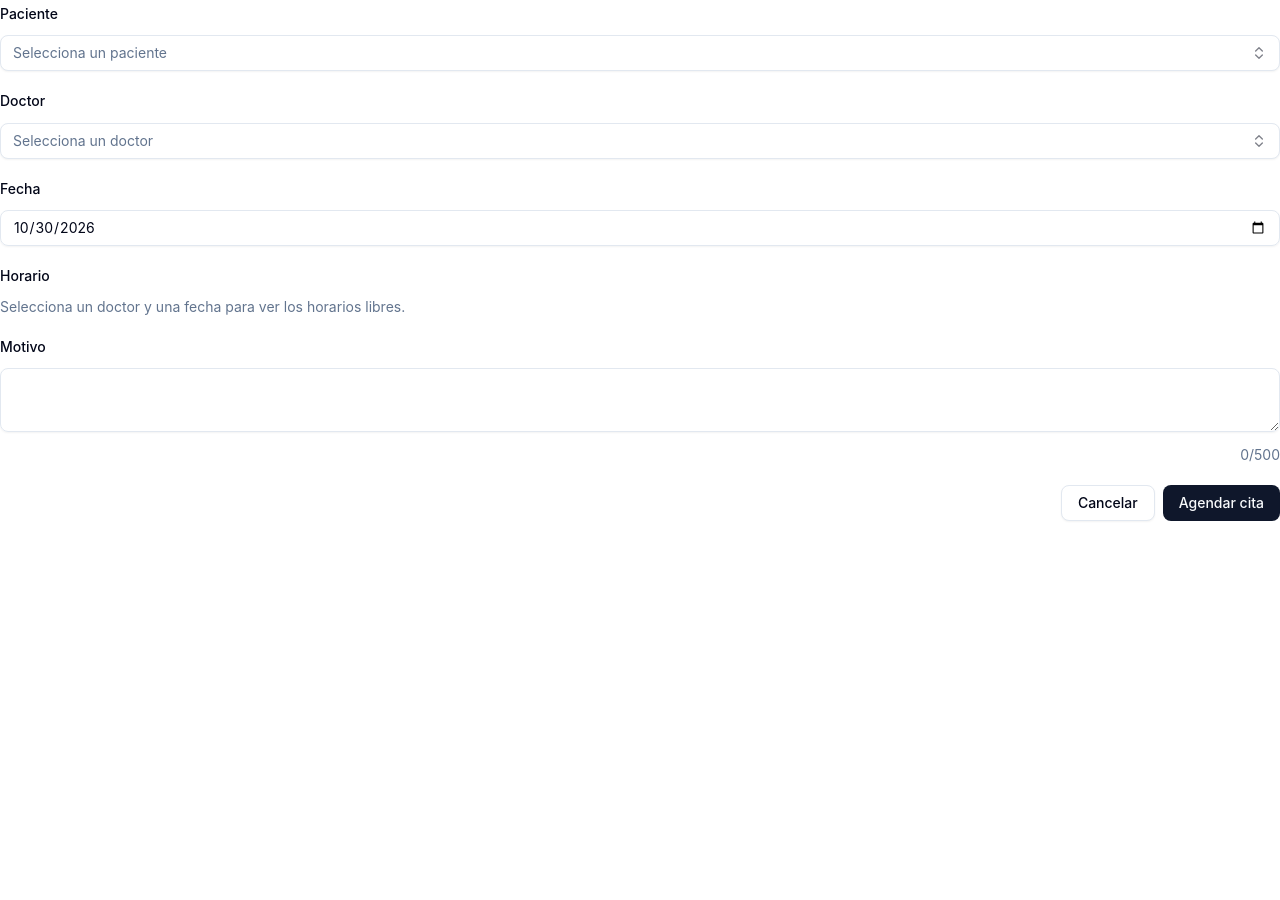
AppointmentForm › shows the doctor details and loads the free slots of the date
Click the dropdown labelled "doctor": {"x": 83, "y": 140} [0,122,1279,158]
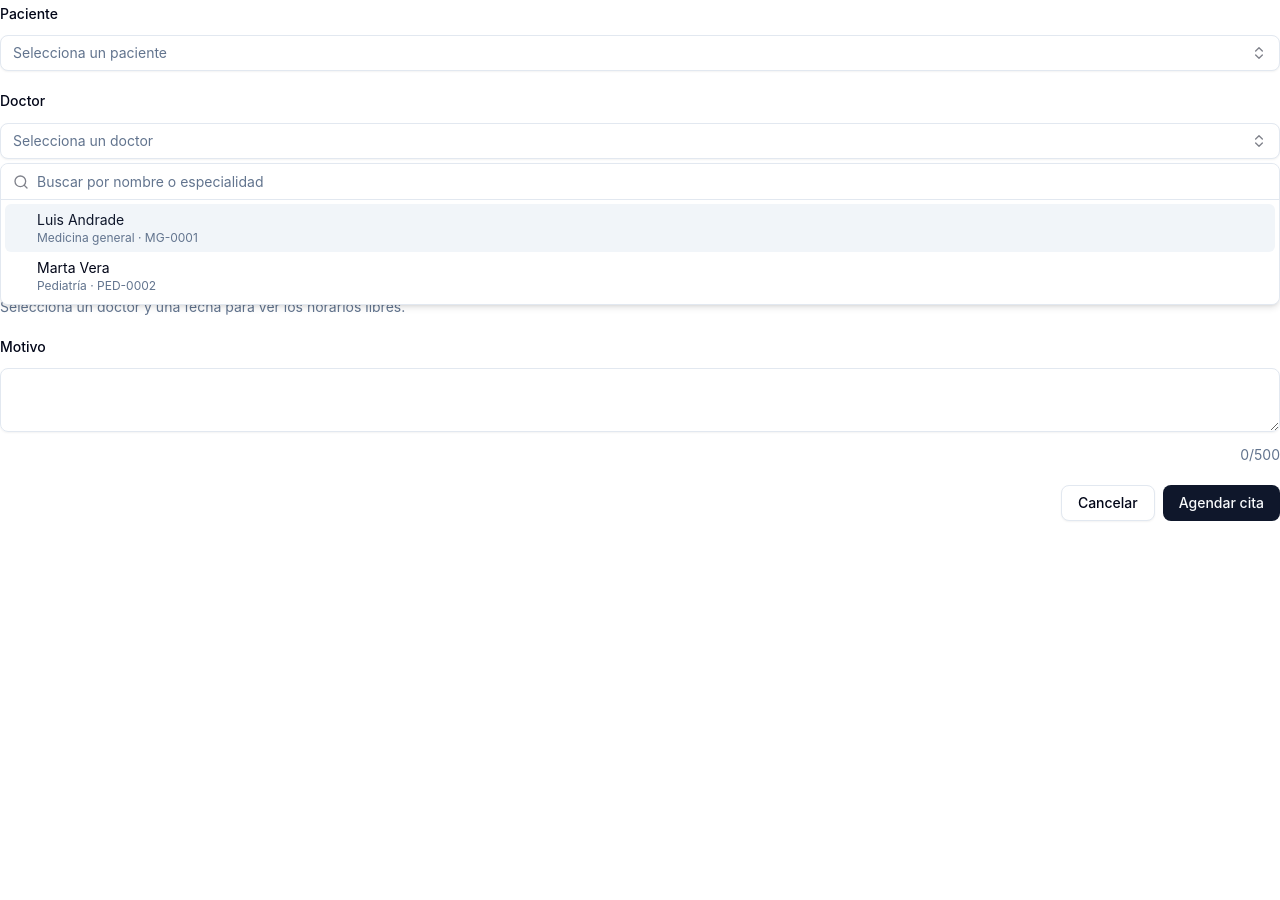
Click the option "Marta Vera Pediatría · PED-0002": {"x": 97, "y": 276} [37,259,156,293]
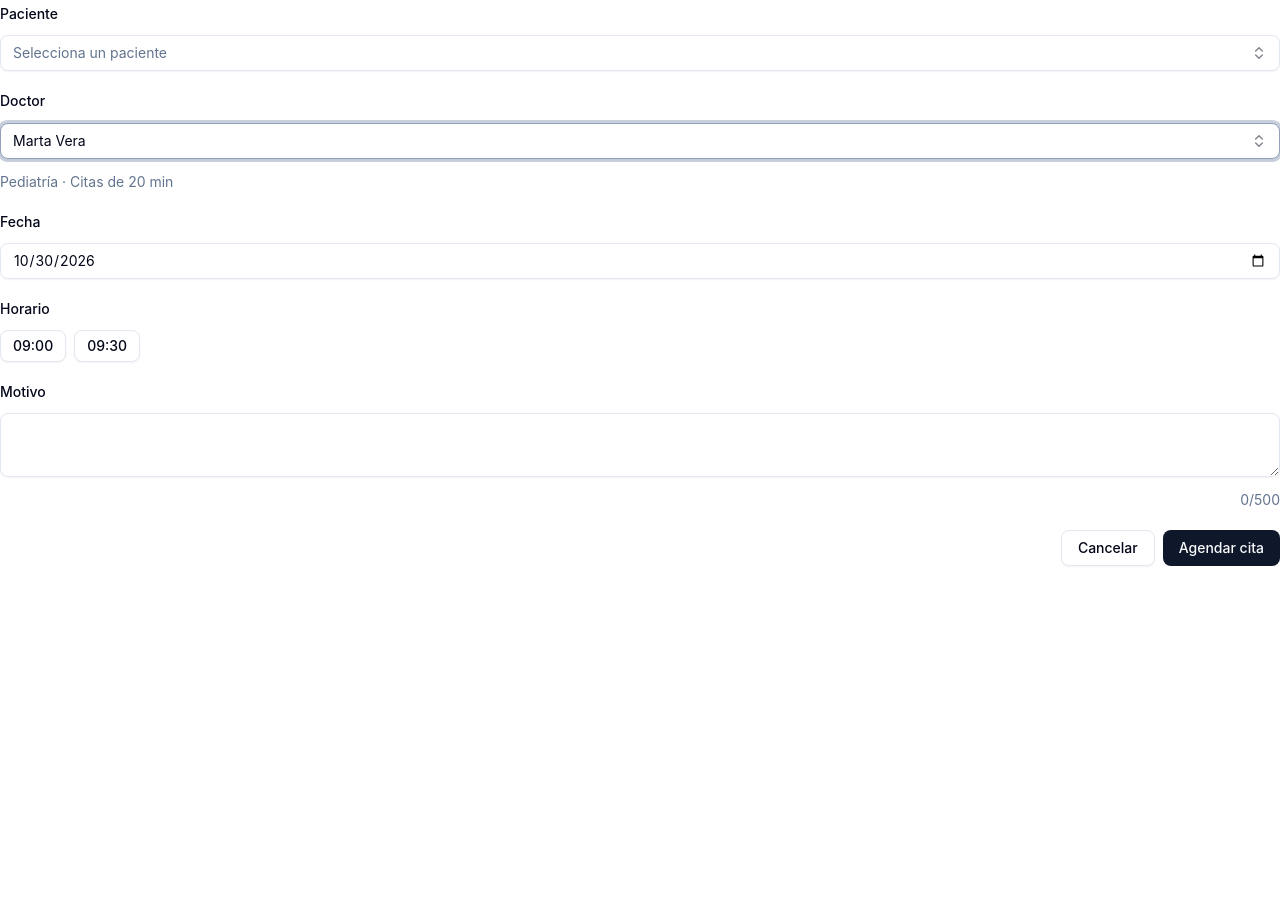
Now the text "Pediatría · Citas de 20 min" is shown, box [0,172,173,190]
Now the button named "09:00 a 09:30" reads "09:00", box [0,330,66,362]
Now the button named "09:30 a 10:00" is shown, box [74,330,140,362]
